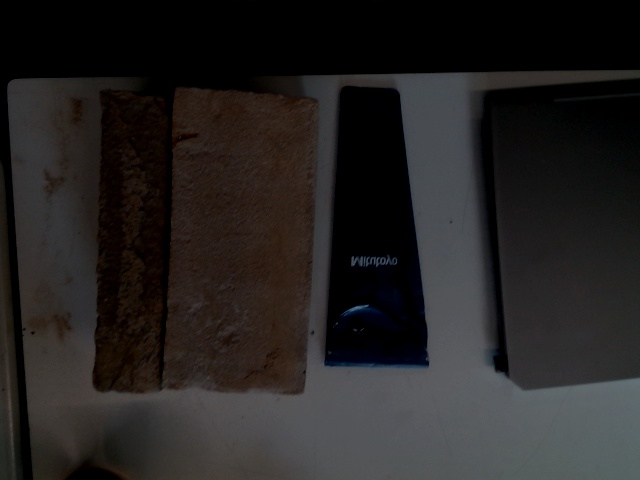brick: (167, 95, 317, 388)
